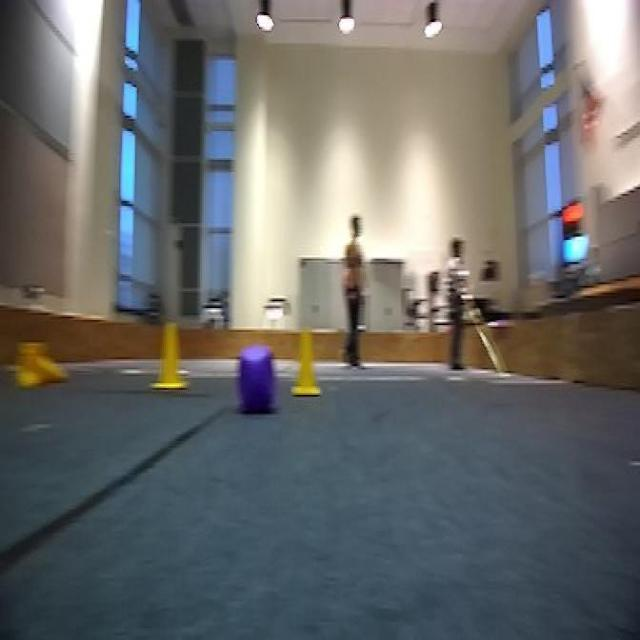frc_cone: (148, 320, 192, 391), (19, 335, 68, 390), (291, 331, 321, 398)
frc_cube: (237, 345, 277, 412)
